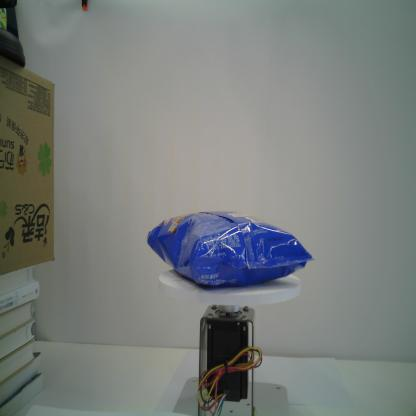Puffed Food: (146, 210, 316, 287)
